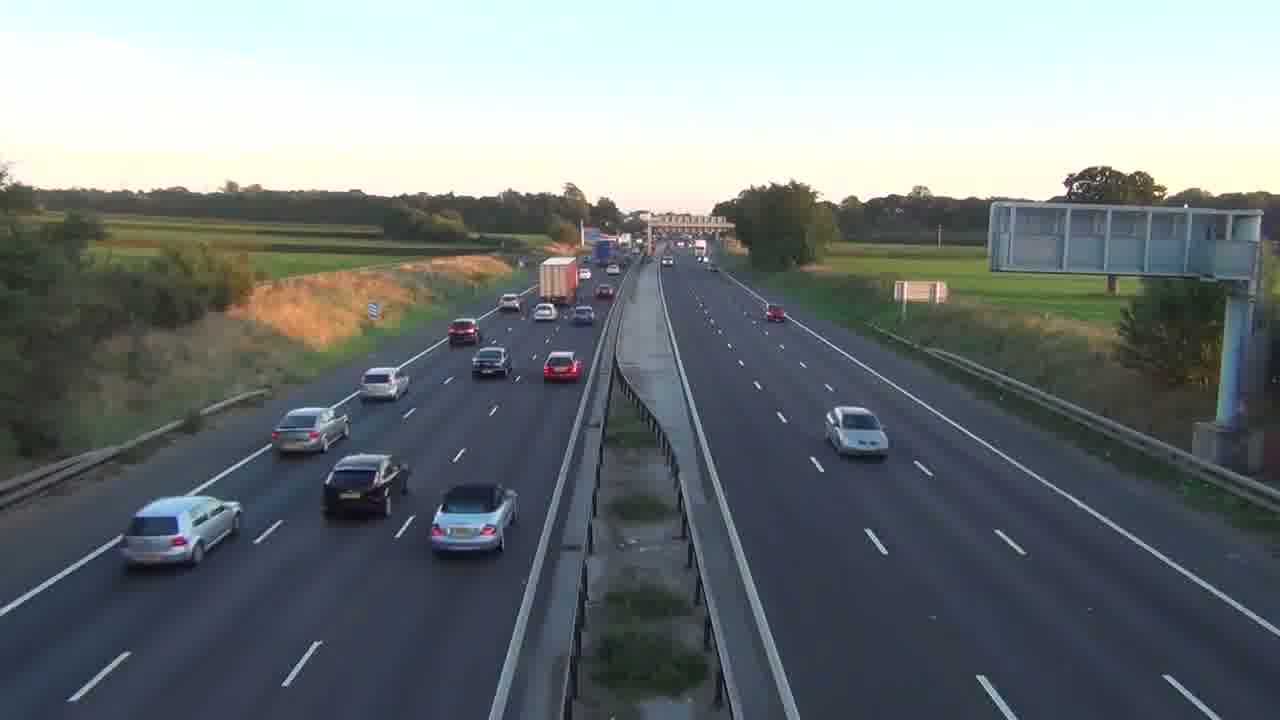car: (119, 494, 242, 569), (428, 482, 519, 556), (321, 452, 405, 518), (271, 406, 351, 455), (823, 405, 891, 459), (824, 404, 890, 459), (359, 365, 410, 401), (542, 350, 583, 384), (471, 346, 513, 378), (447, 318, 481, 347), (571, 304, 596, 327)
truck: (119, 494, 242, 569)
